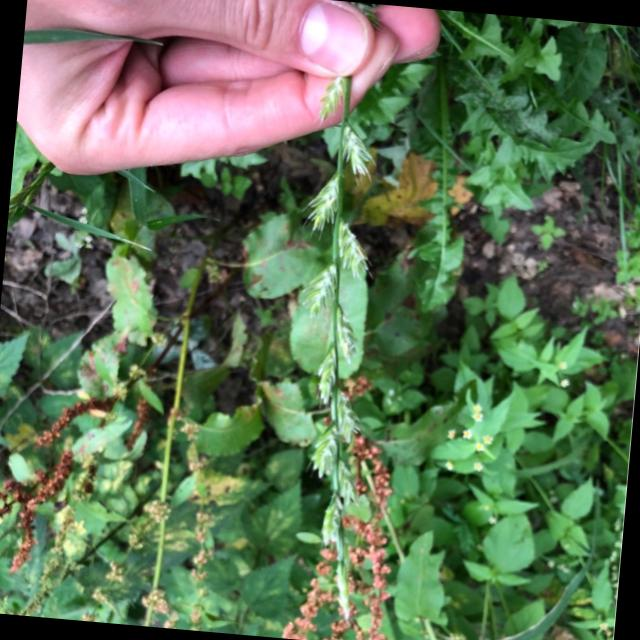Lolium: (272, 58, 402, 601)
